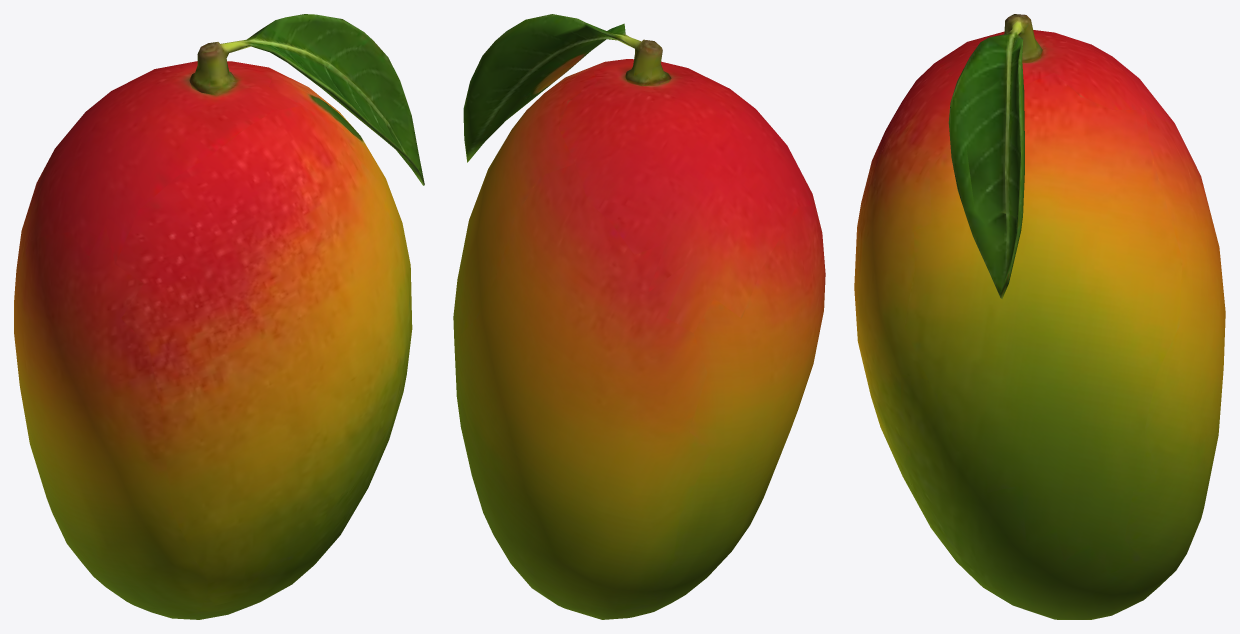
Rendered from mango-phone.glb.
The picture shows the model from 3 angles, left to right: view 1: azimuth 30°, elevation 25°; view 2: azimuth 150°, elevation 25°; view 3: azimuth 270°, elevation 25°; orthographic projection. The views are drawn at different scales.
Parts seen in each view (by area): view 1: Model; view 2: Model; view 3: Model.
Boxes of the visible parts, <box> form: Model: <box>14,14,424,619</box>; Model: <box>453,14,825,619</box>; Model: <box>854,14,1225,619</box>.
Size of the model in its own units: 1.24 by 1.9 by 1.08.
1 material, 1 textured.
